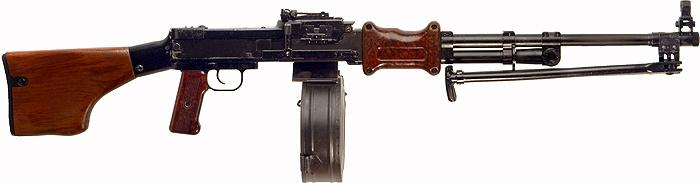blood: (7, 5, 700, 182)
